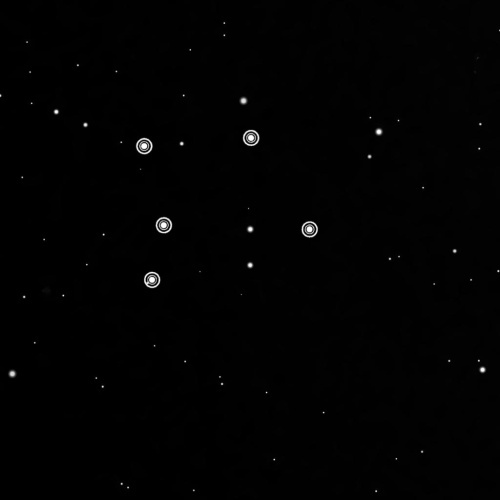libra: (130, 122, 323, 292)
